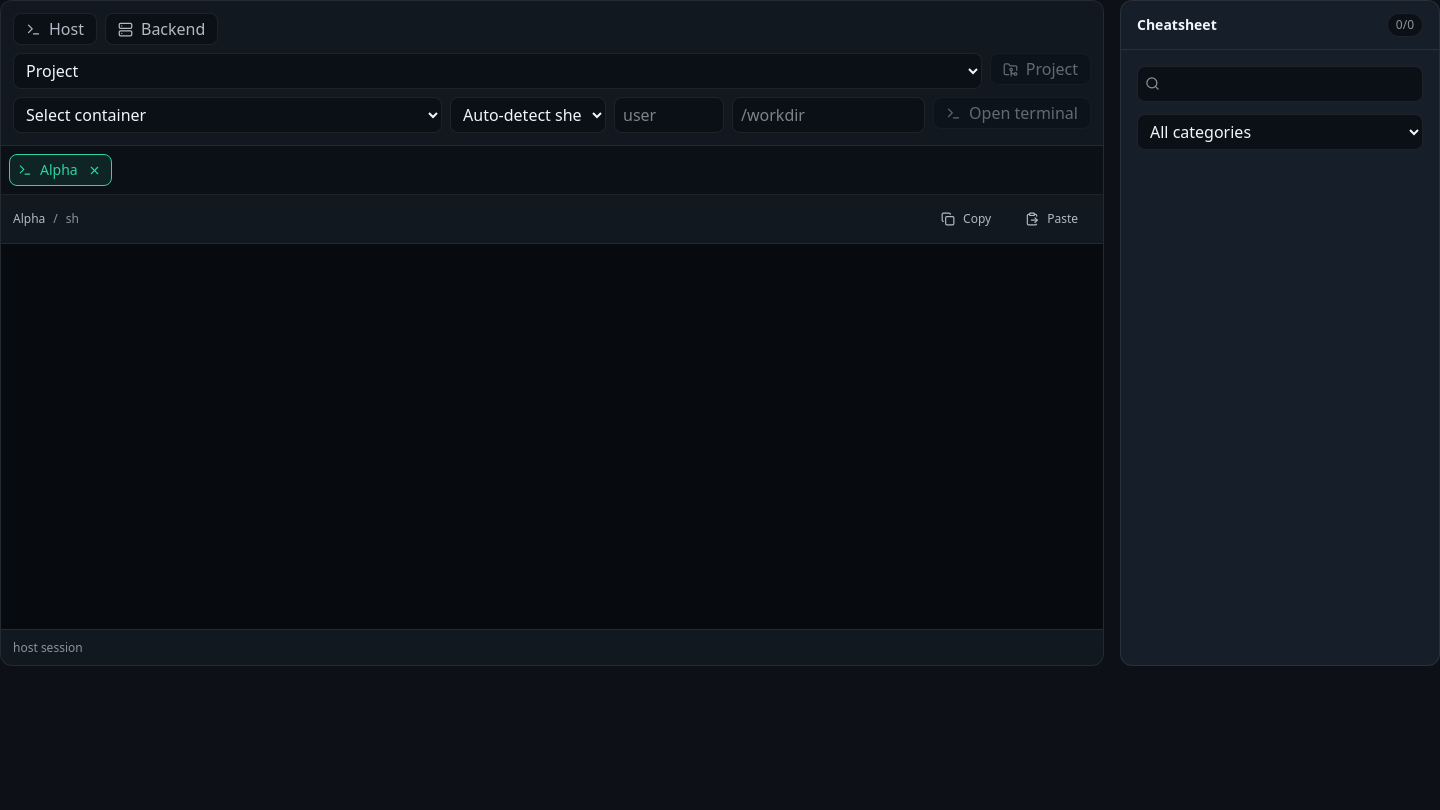
Test: TerminalPage operation and session lifecycle › replaces terminal copy success when the next attempt fails
The image size is (1440, 810).
Check: the panel named "Alpha" is shown, box x1=1 y1=244 x2=1103 y2=629
What coordinates should you click on to do the following:
click the button "Copy"
I would click on:
 (966, 219)
Its box is x1=928 y1=203 x2=1004 y2=235.
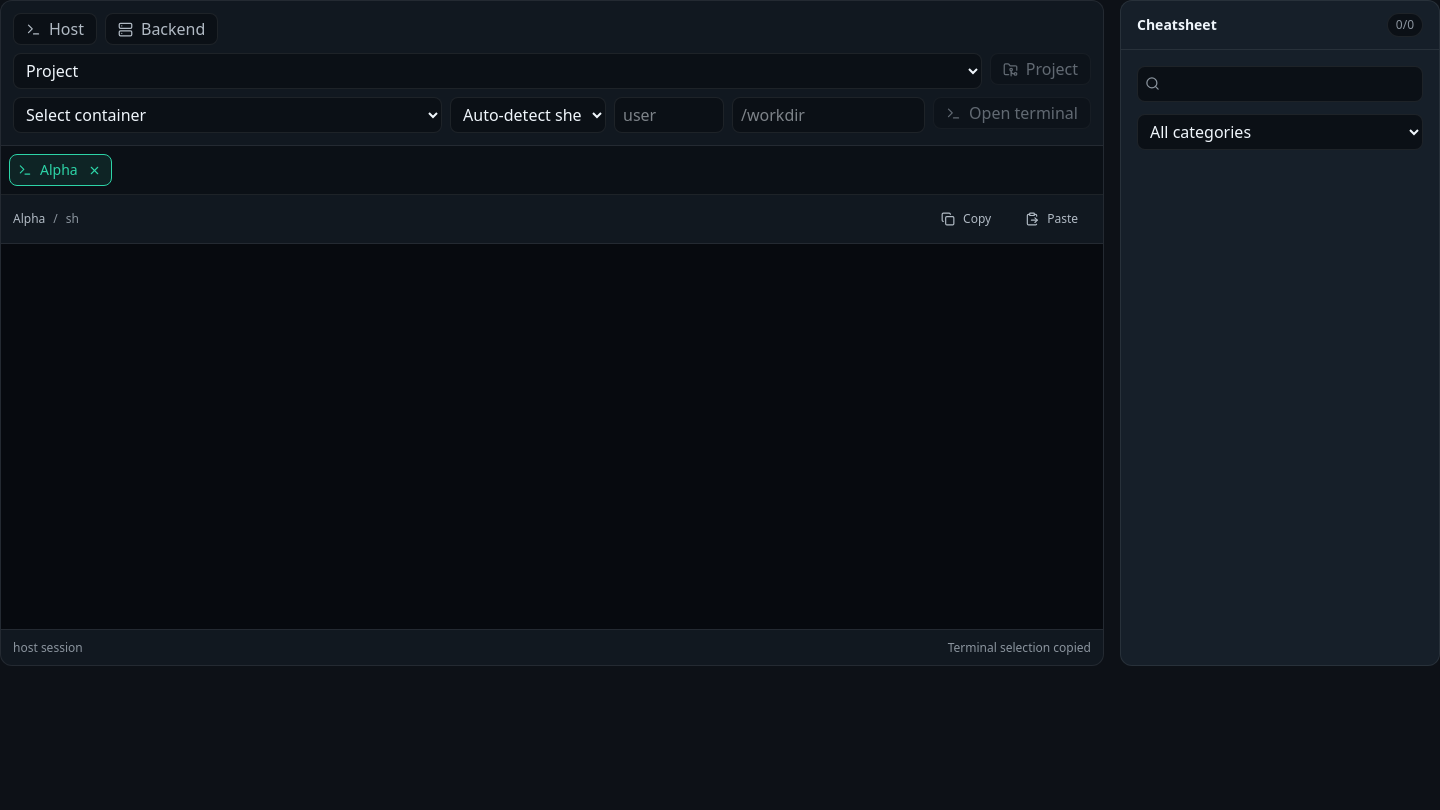
Check: the text "Terminal selection copied" is shown, box x1=948 y1=640 x2=1091 y2=656
What coordinates should you click on to do the following:
click the button "Copy"
I would click on:
 (966, 219)
Its box is x1=928 y1=203 x2=1004 y2=235.
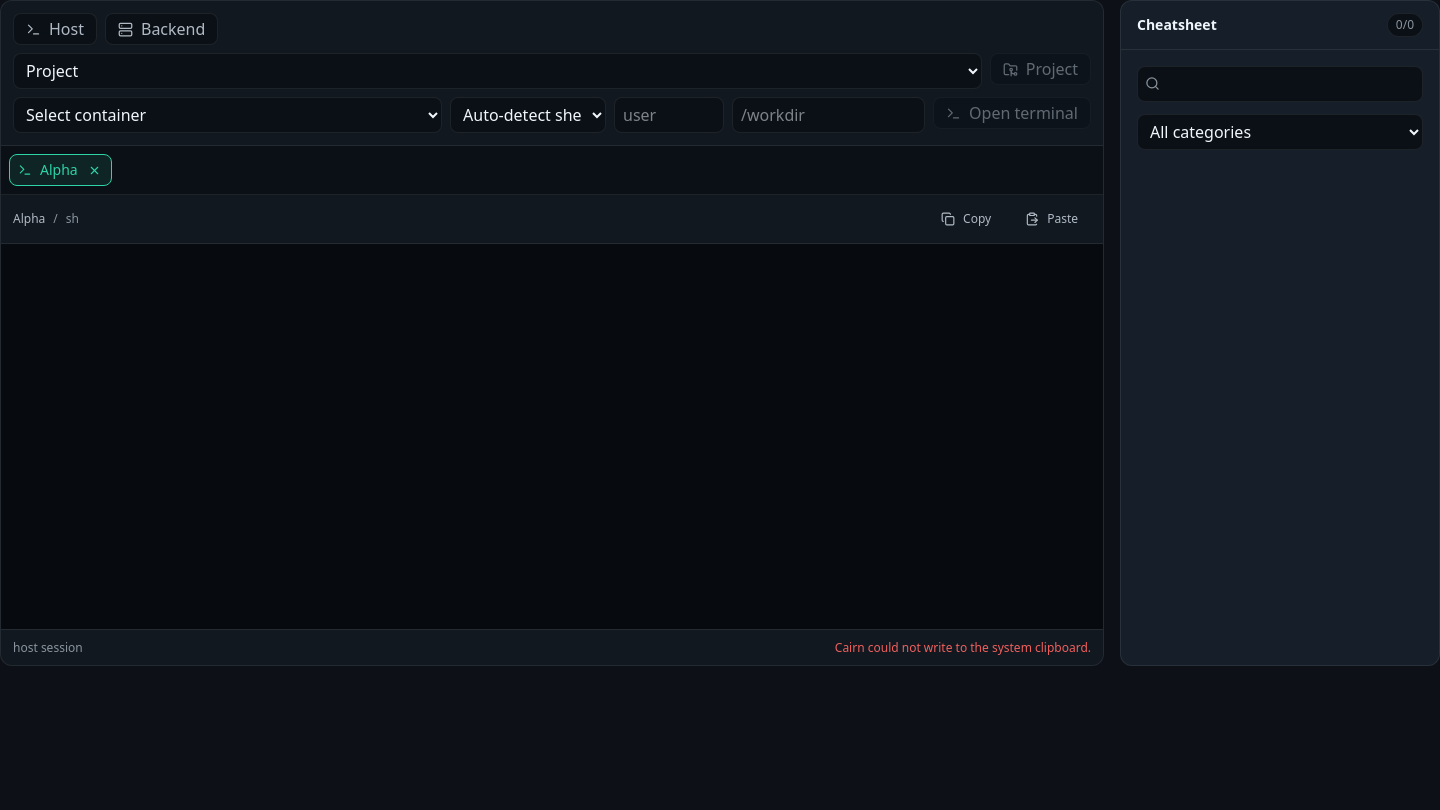
Check: the text "Cairn could not write to the system clipboard." is shown, box x1=835 y1=640 x2=1091 y2=656
Check: the text "Terminal selection copied" is gone
